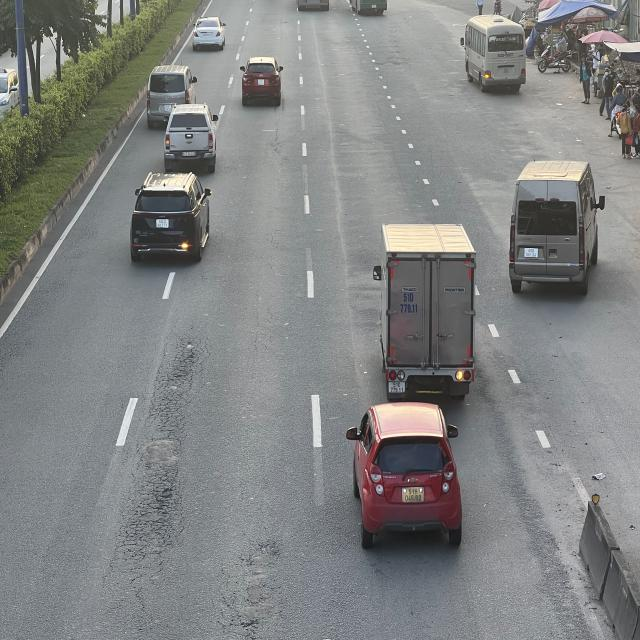car: (349, 403, 464, 550), (129, 173, 211, 264), (165, 103, 221, 170), (145, 63, 196, 125), (238, 56, 283, 105), (193, 17, 227, 52)
coach: (460, 12, 528, 88)
truck: (376, 222, 476, 394)
van: (510, 160, 606, 297)
